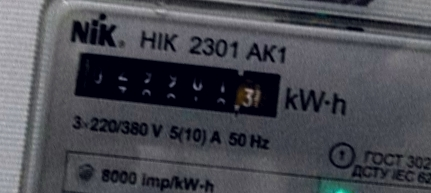0: (188, 67, 205, 94), (87, 63, 106, 86)
1: (213, 71, 228, 95)
2: (113, 63, 131, 83)
3: (239, 85, 254, 108)
9: (163, 67, 180, 90), (138, 64, 153, 87)
screen: (59, 40, 292, 129)
